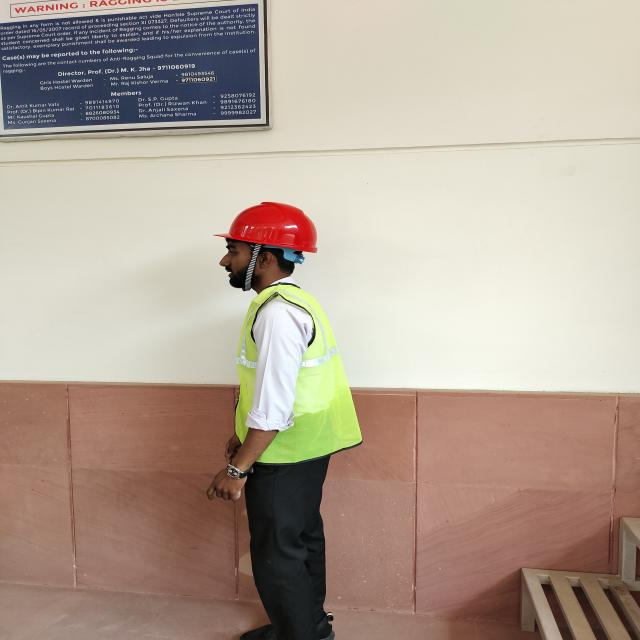safe: (215, 202, 362, 640)
